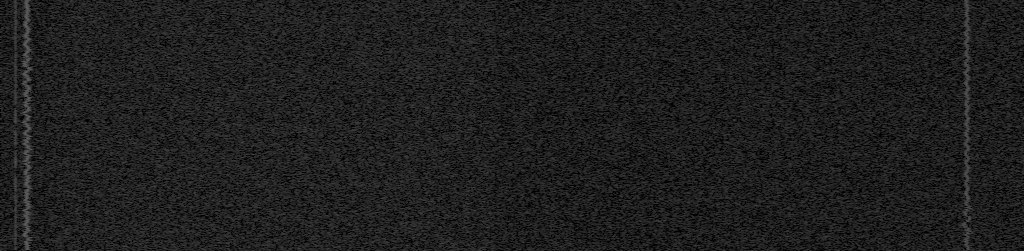wv_am: (11, 0, 20, 251)
wv_dvbt_8kfft: (47, 0, 496, 251)
wv_wbfm: (14, 0, 36, 251), (957, 0, 974, 251)
